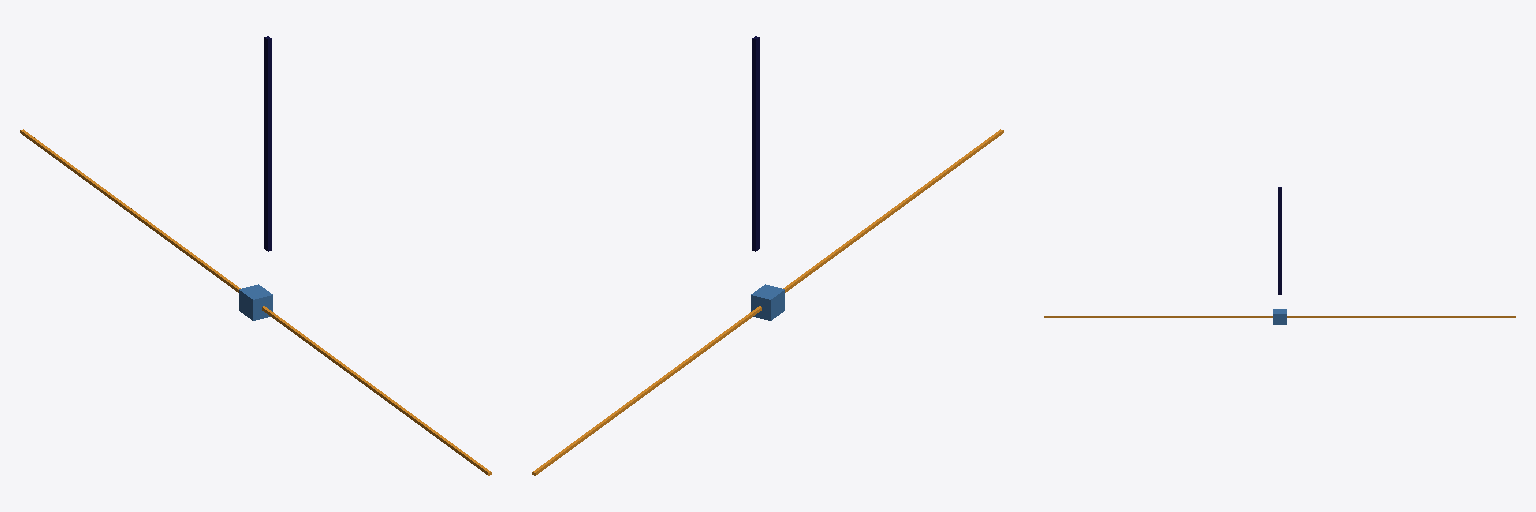
URDF robot description (cartpole):
<?xml version="1.0"?>
<robot name="cartpole">

    <link name="slider">
    <visual>
      <geometry>
        <box size="0.03 8 0.03"/>
      </geometry>
      <material name="slider_mat">
        <color rgba="0.9 0.6 0.2 1"/>
      </material>
    </visual>
    <collision>
      <geometry>
        <box size="0.03 8 0.03"/>
      </geometry>
    </collision>
  </link>

  <link name="cart">
    <visual>
      <geometry>
        <box size="0.2 0.25 0.2"/>
      </geometry>
      <material name="cart_mat">
        <color rgba="0.3 0.5 0.7 1"/>
      </material>
    </visual>
    <collision>
      <geometry>
          <box size="0.2 0.25 0.2"/>
      </geometry>
    </collision>
    <inertial>
      <mass value="1"/>
    </inertial>
  </link>

  <link name="pole">
    <visual>
      <geometry>
        <box size="0.04 0.06 2.0"/>	
      </geometry>
      <origin xyz="0 0 1.47"/>
      <material name="pole_mat">
        <color rgba="0.1 0.1 0.3 1"/>
      </material>
    </visual>
    <collision>
      <geometry>
        <box size="0.04 0.06 2.0"/>	
      </geometry>
      <origin xyz="0 0 1.47"/>
    </collision>
    <inertial>
      <mass value="1"/>
      <origin xyz="0 0 1.47"/>
    </inertial>
  </link>

  <joint name="slider_to_cart" type="prismatic">
    <axis xyz="0 1 0"/>
    <origin xyz="0 0 0"/>
    <parent link="slider"/>
    <child link="cart"/>
    <limit effort="1000.0" lower="-4" upper="4" velocity="100"/>
  </joint>

  <joint name="cart_to_pole" type="continuous">
    <axis xyz="1 0 0"/>
    <origin xyz="0.12 0 0"/>
    <parent link="cart"/>
    <child link="pole"/>
    <limit effort="1000.0" velocity="8"/>
  </joint>
  
</robot>

--- Render facts (derived) ---
3 views of the same robot in one strip: view 1: azimuth 30°, elevation 25°; view 2: azimuth 150°, elevation 25°; view 3: azimuth 270°, elevation 25° (orthographic).
Robot: cartpole — 3 links, 2 joints (1 continuous, 1 prismatic); root link slider; default pose: every joint at zero.
Visible links, largest first — view 1: slider, pole, cart; view 2: slider, pole, cart; view 3: slider.
Link boxes in pixels (<box>): slider: <box>20,129,491,475</box>; pole: <box>264,36,271,251</box>; cart: <box>239,284,272,320</box>; slider: <box>532,129,1003,475</box>; pole: <box>752,36,759,251</box>; cart: <box>751,284,784,320</box>; slider: <box>1044,316,1515,317</box>.
Size in the robot's own frame: 0.24 by 8 by 2.57 metres.
Geometry: primitives only (box / cylinder / sphere), no mesh files.
